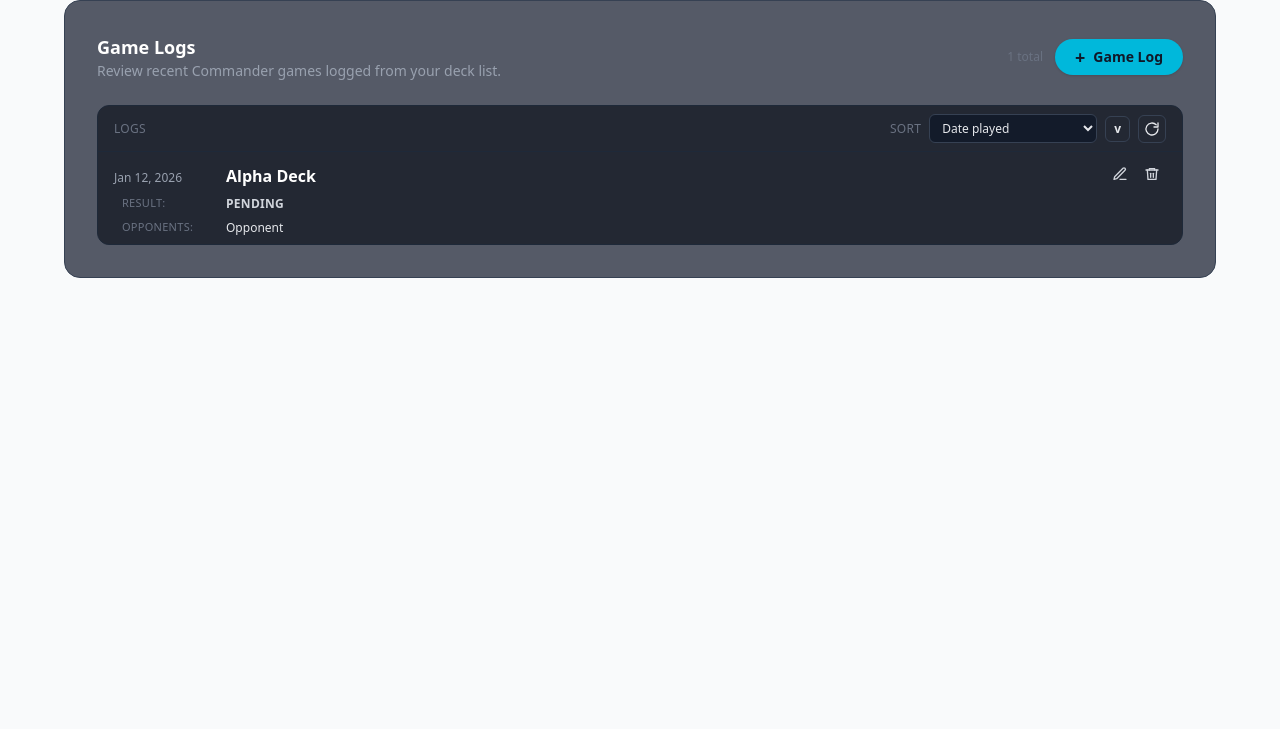
Test case: GameLogs › sets opponent commanders from a selected deck
The width and height of the screenshot is (1280, 729).
Click the button named "Edit Alpha Deck" at (1120, 174), box top-left (1106, 160), bottom-right (1134, 188)
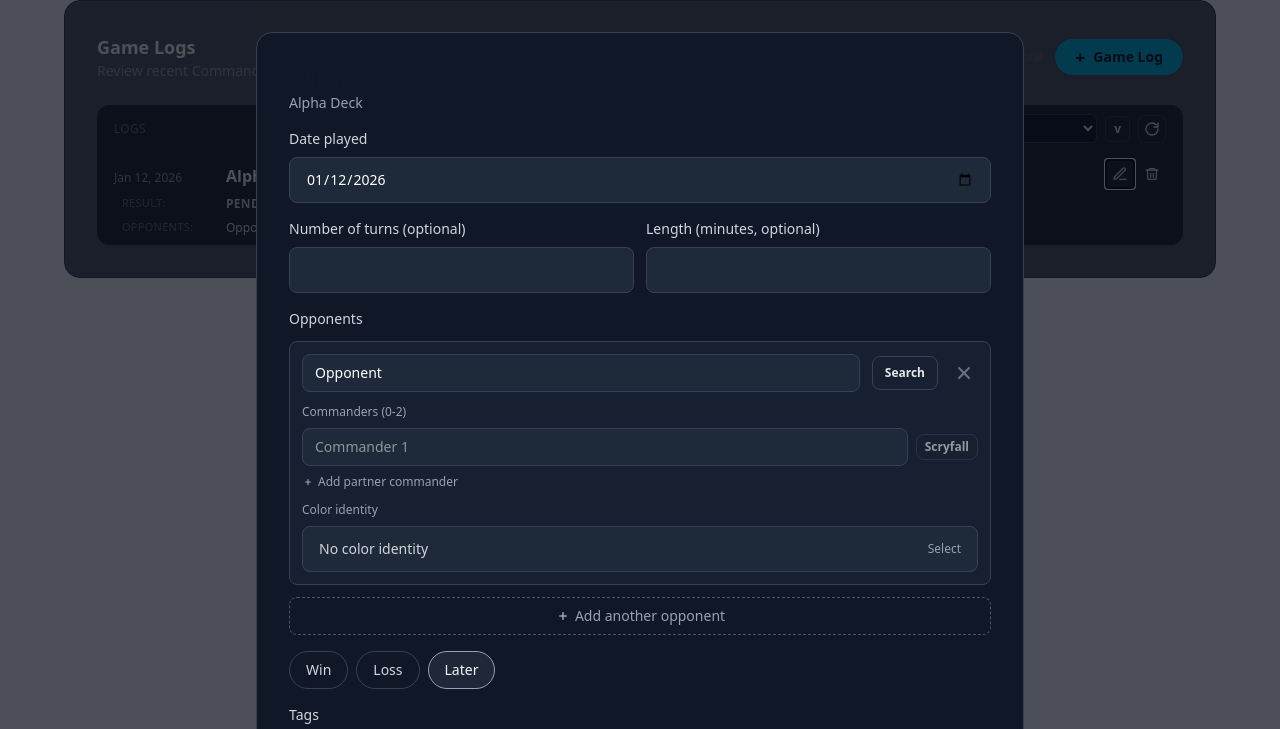
Click the button "Search" at (905, 373), box top-left (872, 356), bottom-right (938, 390)
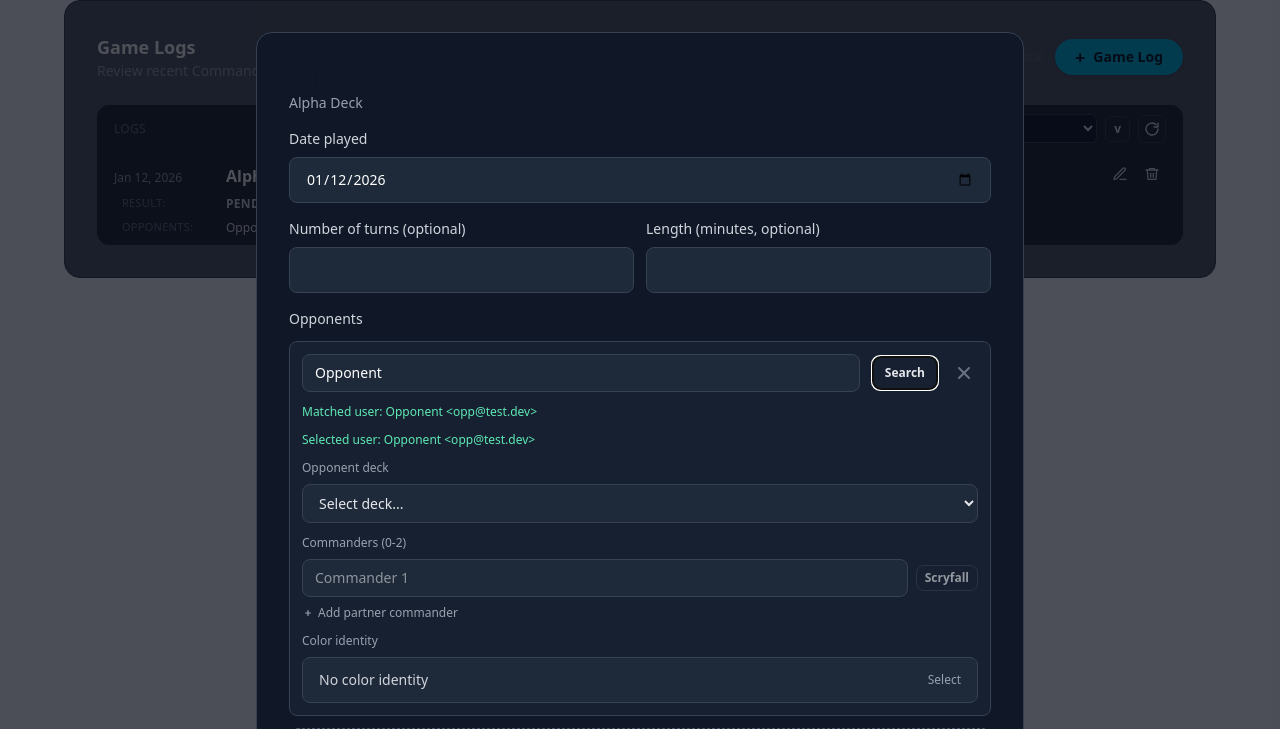
Select "Nightmare — Atraxa, Praetors' Voice" in the dropdown labelled "Opponent deck" at (640, 504), box top-left (302, 484), bottom-right (978, 523)
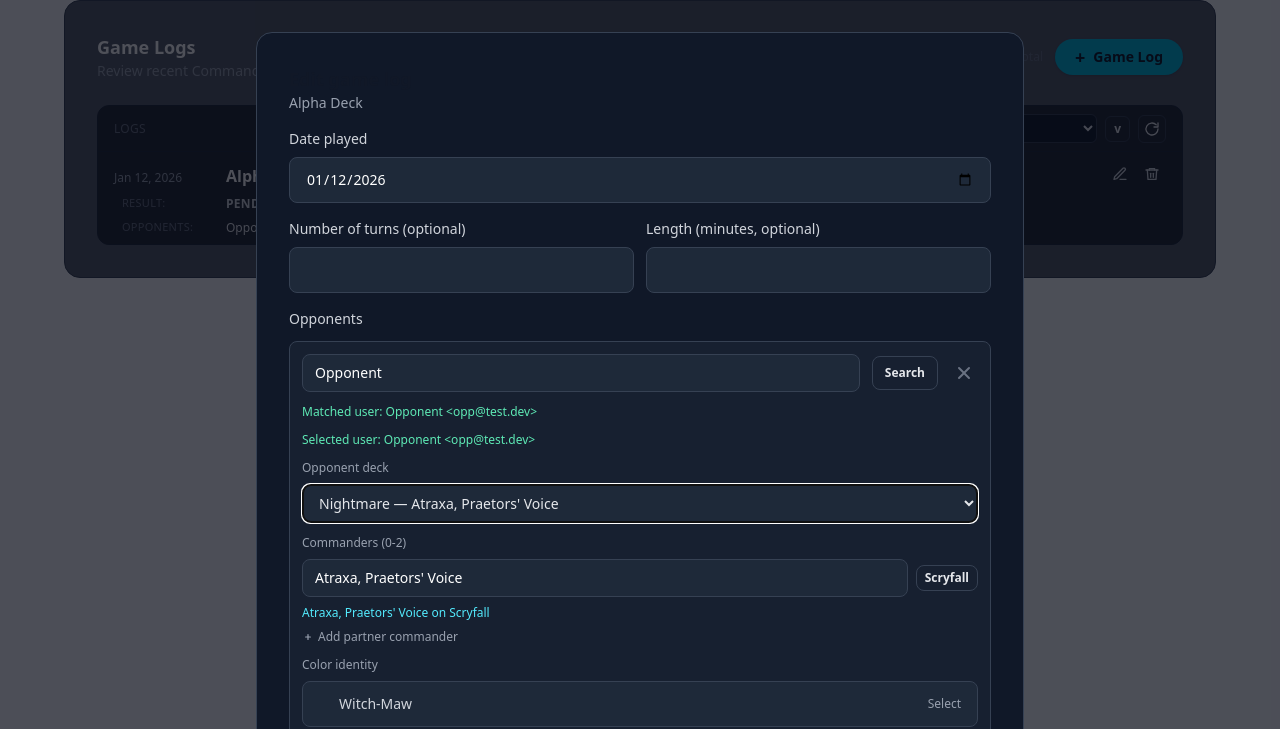
Result: the field with placeholder "Commander 1" below "Commanders (0-2)" holds "Atraxa, Praetors' Voice" at top-left (302, 559), bottom-right (908, 597)
Result: the link "Atraxa, Praetors' Voice on Scryfall" is shown at top-left (302, 605), bottom-right (490, 621)
